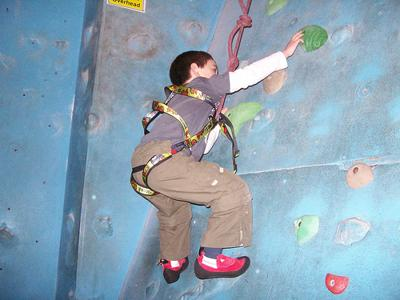person: (128, 29, 306, 285)
